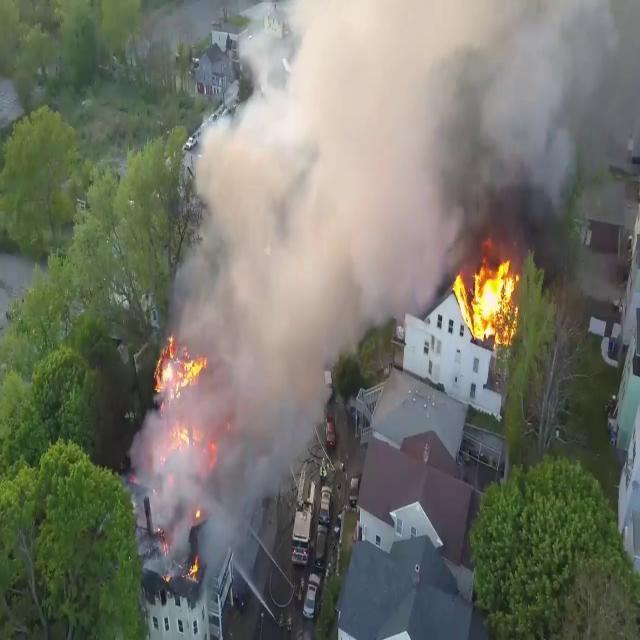Fire: (451, 250, 525, 346), (152, 332, 210, 400), (186, 552, 202, 587)
Smoke: (146, 1, 447, 550), (151, 0, 640, 263)
